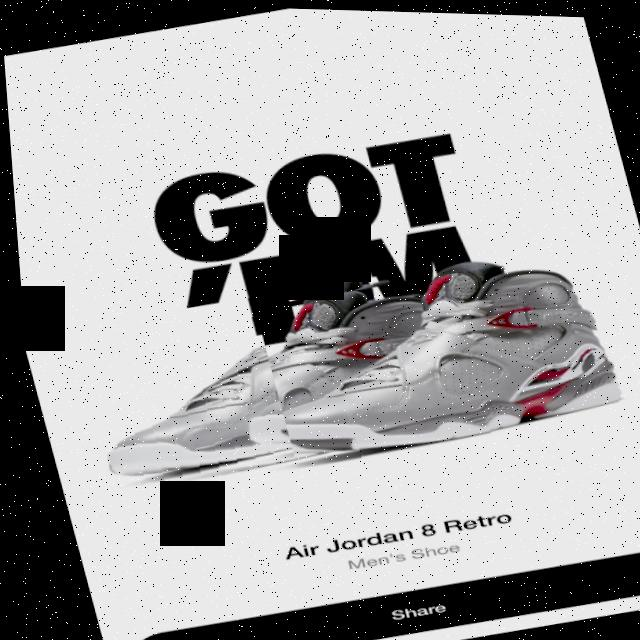shoe: (246, 231, 640, 482), (36, 264, 432, 513)
